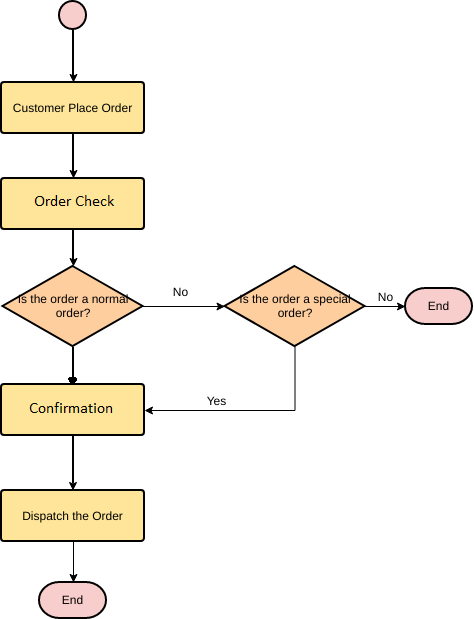arrow: (145, 348, 300, 414), (137, 300, 225, 311), (65, 433, 78, 489), (67, 32, 78, 84), (362, 300, 404, 312), (67, 135, 79, 175), (67, 343, 78, 384), (67, 225, 78, 265), (68, 543, 79, 582)
connection: (57, 1, 87, 29)
decision: (223, 265, 368, 346), (1, 265, 143, 345)
process: (2, 79, 147, 137), (1, 488, 148, 544), (3, 175, 146, 232), (2, 382, 147, 438)
terminator: (38, 579, 109, 616), (404, 285, 472, 323)
text: (15, 293, 132, 323), (234, 292, 356, 318), (10, 101, 136, 115), (21, 509, 124, 524), (30, 400, 116, 416), (31, 193, 116, 207), (425, 295, 452, 313), (202, 393, 230, 408), (58, 593, 84, 606), (170, 285, 190, 299), (376, 289, 395, 303)
